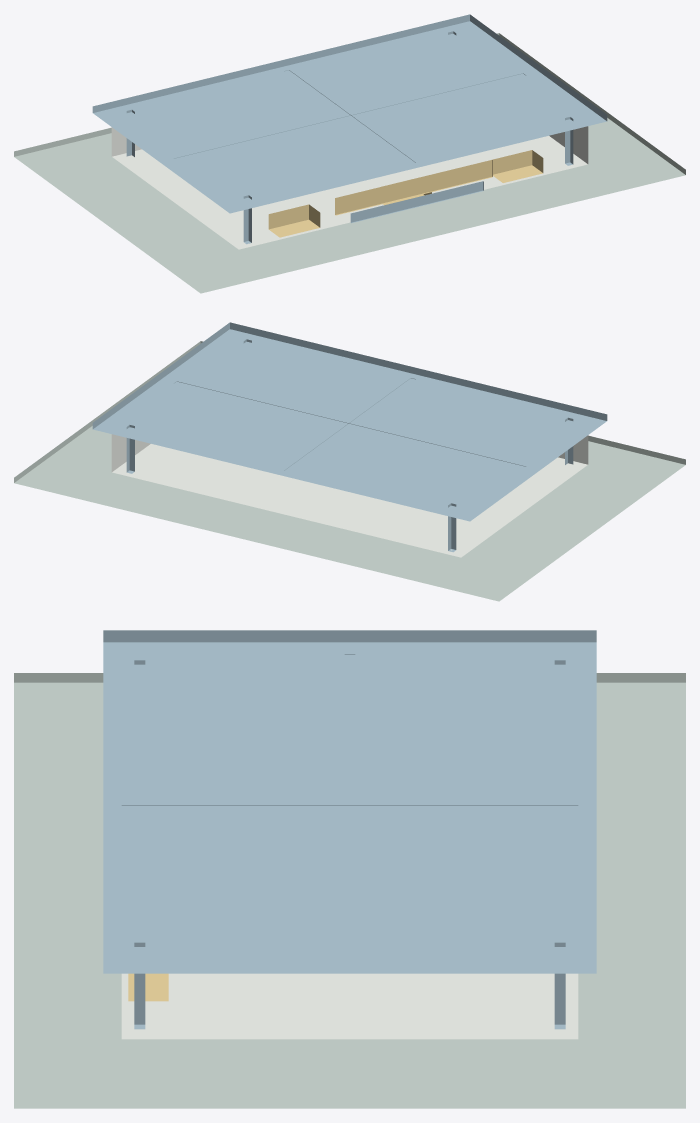
Rendered from car_dealer.glb.
3 renders of one model, top to bottom at view 1: azimuth 30°, elevation 25°; view 2: azimuth 150°, elevation 25°; view 3: azimuth 270°, elevation 25°, orthographic. The views are drawn at different scales.
Parts seen in each view (by area): view 1: Roof, Foundation, Walls, Details, Frame; view 2: Roof, Foundation, Walls, Frame; view 3: Roof, Foundation, Walls, Frame, Details.
Boxes of the visible parts, x1=… form: Roof: x1=92, y1=14, x2=607, y2=213; Foundation: x1=14, y1=33, x2=685, y2=293; Walls: x1=111, y1=126, x2=588, y2=249; Details: x1=268, y1=150, x2=543, y2=237; Frame: x1=126, y1=31, x2=573, y2=244; Roof: x1=92, y1=322, x2=607, y2=521; Foundation: x1=14, y1=341, x2=685, y2=601; Walls: x1=111, y1=434, x2=588, y2=557; Frame: x1=126, y1=339, x2=573, y2=552; Roof: x1=103, y1=630, x2=596, y2=973; Foundation: x1=14, y1=673, x2=685, y2=1108; Walls: x1=121, y1=973, x2=578, y2=1039; Frame: x1=121, y1=654, x2=578, y2=1029; Details: x1=128, y1=973, x2=168, y2=1001.
Bounding box in the file's own units: 60 × 6.56 × 40.
